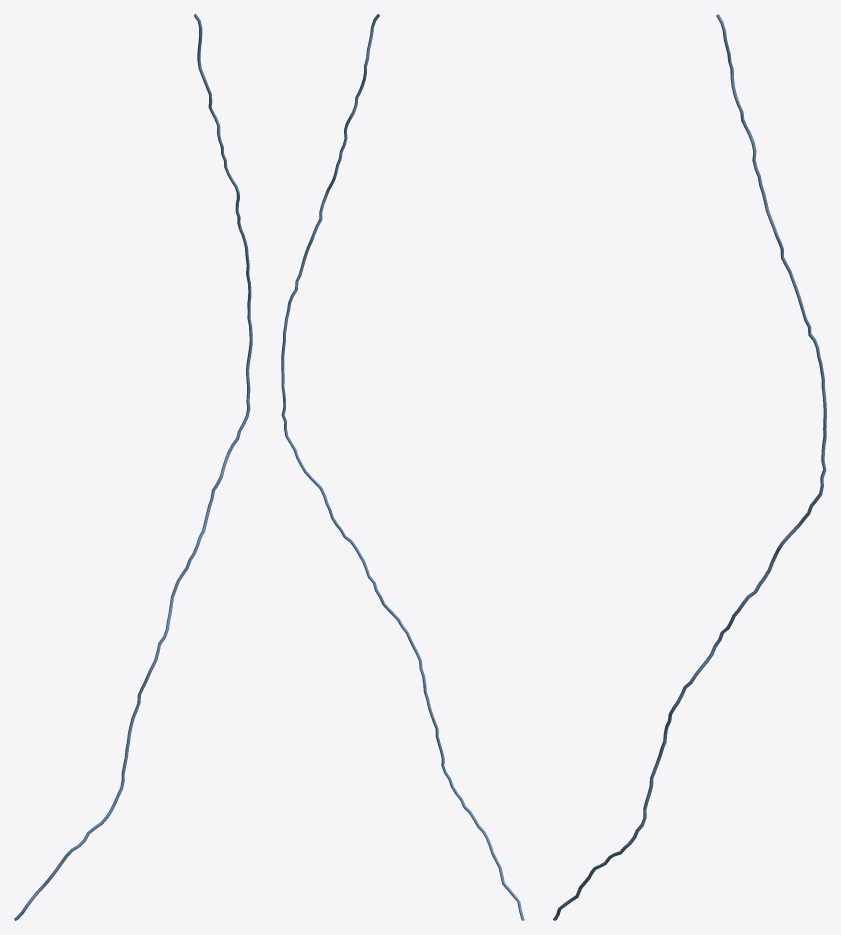
File: sweep93.fbx
The picture shows the model from 3 angles, left to right: view 1: azimuth 30°, elevation 25°; view 2: azimuth 150°, elevation 25°; view 3: azimuth 330°, elevation 25°; orthographic projection. The views are drawn at different scales.
Visible parts, largest first — view 1: sweep93; view 2: sweep93; view 3: sweep93.
Boxes of the visible parts, x1,y1,x2,y2 form: sweep93: (14,14,252,920); sweep93: (281,14,524,920); sweep93: (553,14,826,920).
Bounding box in the file's own units: 1.75 × 6.01 × 0.2975.
